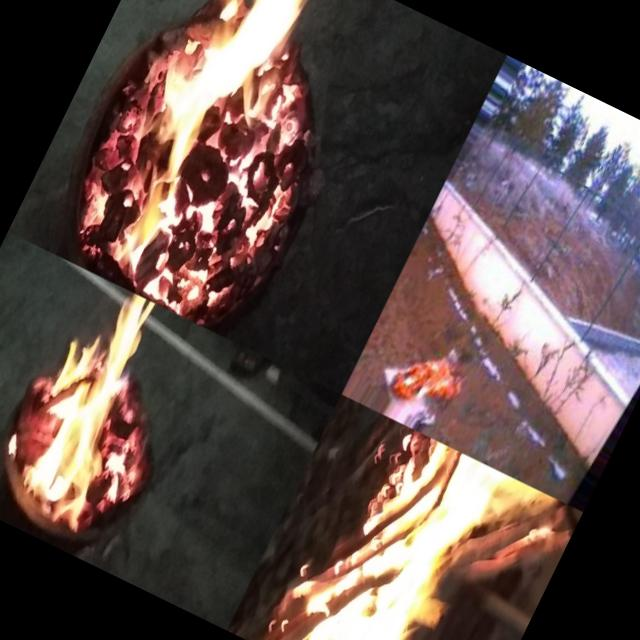fire: (50, 0, 412, 348), (0, 270, 209, 541), (346, 444, 582, 640), (388, 336, 476, 424)
